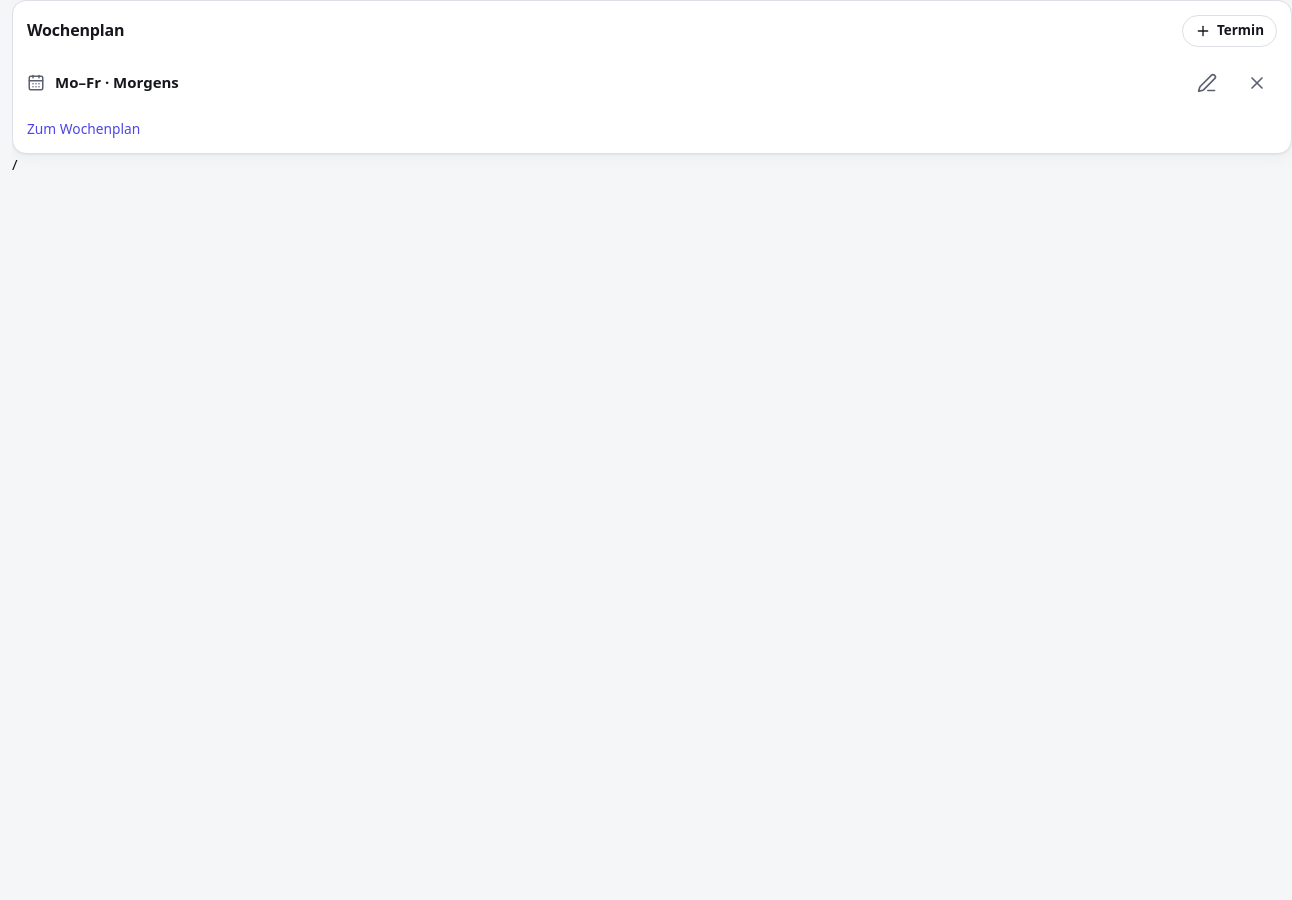
ShowSchedule › reports a conflict that persists after re-applying the edit
This screenshot has width=1292, height=900.
Click the button named "Mo–Fr · Morgens entfernen".
click(1257, 83)  # box x1=1237 y1=63 x2=1277 y2=103
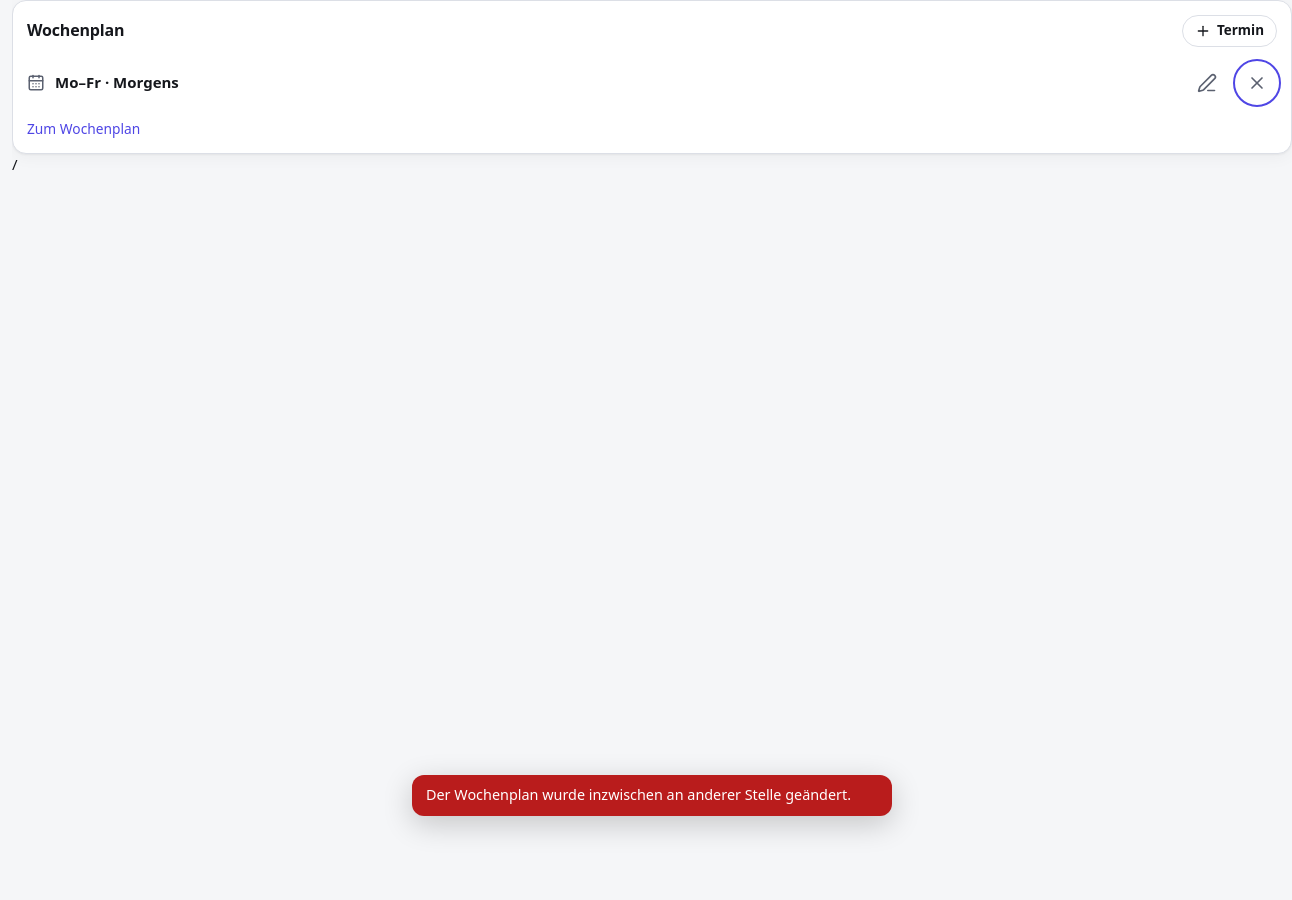
expect the text "Der Wochenplan wurde inzwischen an anderer Stelle geändert." is shown: met, box x1=426 y1=785 x2=878 y2=806
